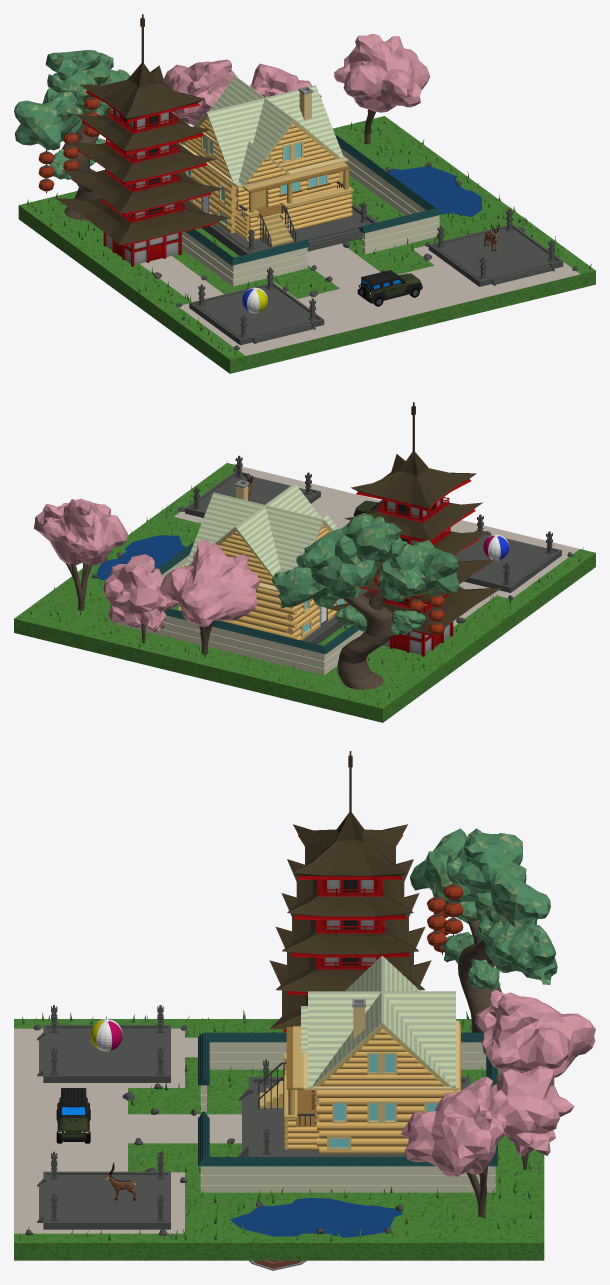
3 renders of one model, top to bottom at view 1: azimuth 30°, elevation 25°; view 2: azimuth 150°, elevation 25°; view 3: azimuth 270°, elevation 25°, orthographic. The views are drawn at different scales.
Visible parts, largest first — view 1: Cube.005, Cube.1516, VEHICLES_JEEP, OBJRANDOM_BEACHBALL; view 2: Cube.005, Cube.1516, OBJRANDOM_BEACHBALL; view 3: Cube.005, Cube.1516, VEHICLES_JEEP, OBJRANDOM_BEACHBALL.
Boxes of the visible parts, x1=… form: Cube.005: x1=14, y1=14, x2=595, y2=373; Cube.1516: x1=178, y1=76, x2=353, y2=247; VEHICLES_JEEP: x1=357, y1=270, x2=422, y2=306; OBJRANDOM_BEACHBALL: x1=242, y1=287, x2=267, y2=313; Cube.005: x1=14, y1=402, x2=595, y2=722; Cube.1516: x1=178, y1=480, x2=358, y2=640; OBJRANDOM_BEACHBALL: x1=483, y1=534, x2=508, y2=560; Cube.005: x1=14, y1=751, x2=595, y2=1260; Cube.1516: x1=258, y1=956, x2=460, y2=1153; VEHICLES_JEEP: x1=56, y1=1088, x2=90, y2=1143; OBJRANDOM_BEACHBALL: x1=90, y1=1019, x2=122, y2=1051.
Size of the model in its own units: 4528 by 3406 by 4389.
48 materials, 6 textured.
